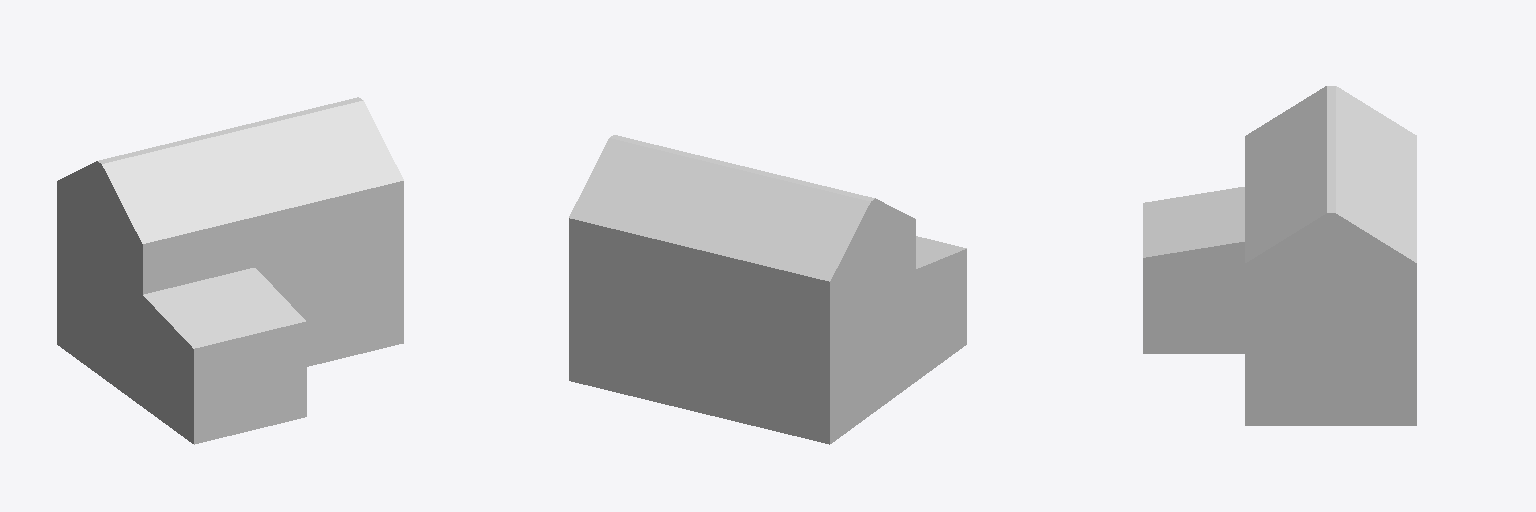
The model's file is House 1.obj.
3 renders of one model, left to right at view 1: azimuth 30°, elevation 25°; view 2: azimuth 150°, elevation 25°; view 3: azimuth 270°, elevation 25°, orthographic.
Parts seen in each view (by area): view 1: House_29; view 2: House_29; view 3: House_29.
Boxes of the visible parts, x1,y1,x2,y2 form: House_29: [57, 97, 403, 444]; House_29: [569, 135, 966, 444]; House_29: [1143, 86, 1416, 425].
Bounding box in the file's own units: 703 × 547 × 639.